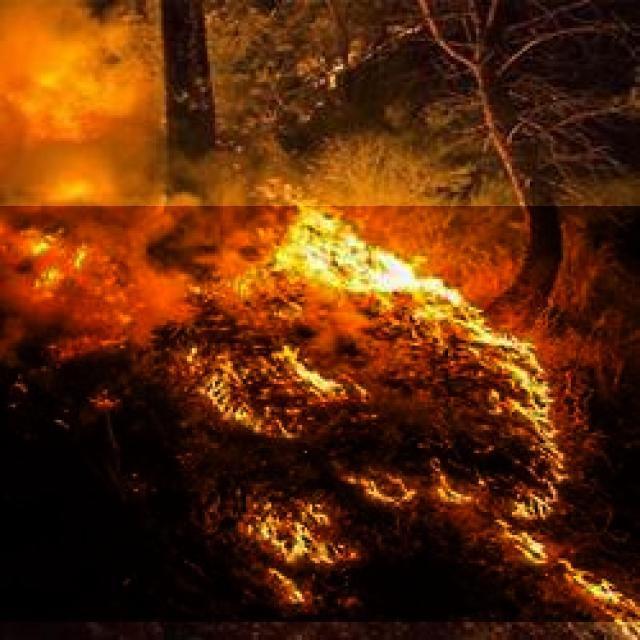Fire: (0, 206, 640, 622)
Smoke: (0, 0, 154, 196)
